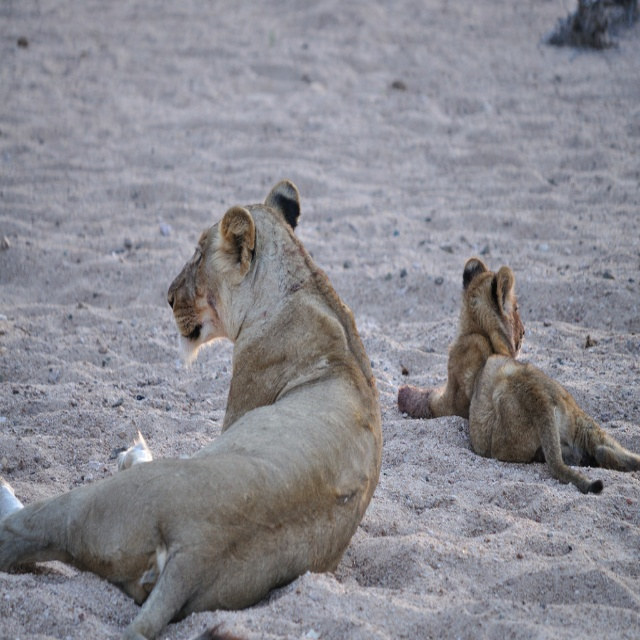Lion: (0, 178, 383, 639), (396, 256, 640, 491)
